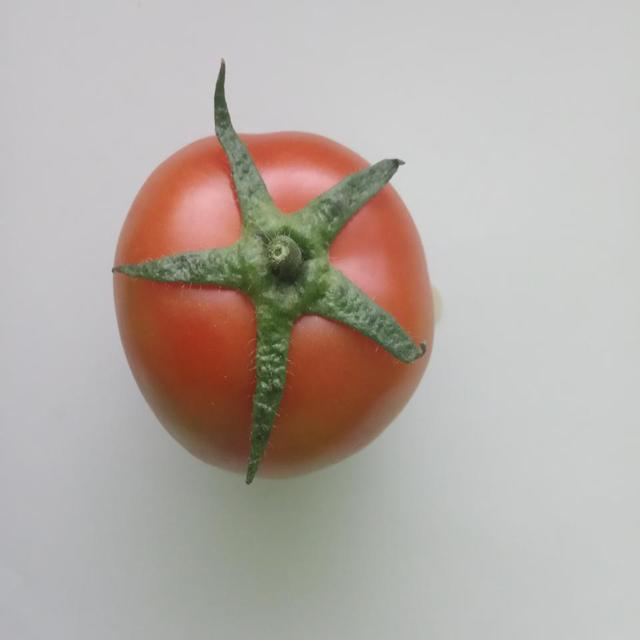Healthy Fruit: (66, 77, 297, 328)
